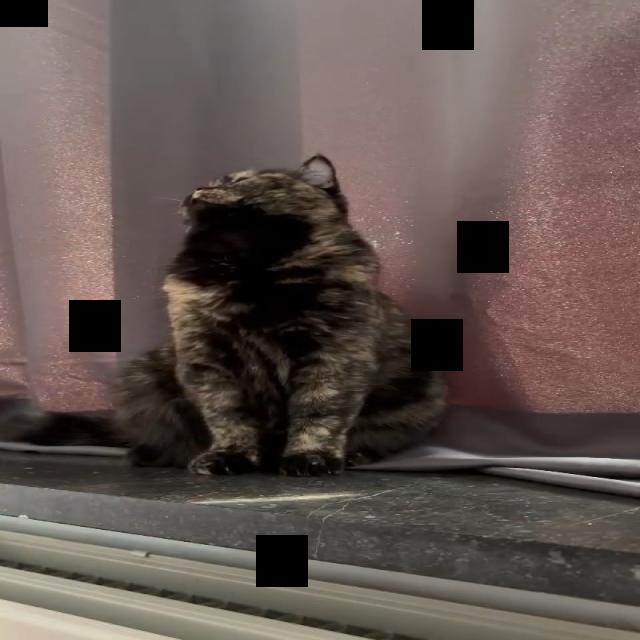authorized: (108, 152, 449, 477)
